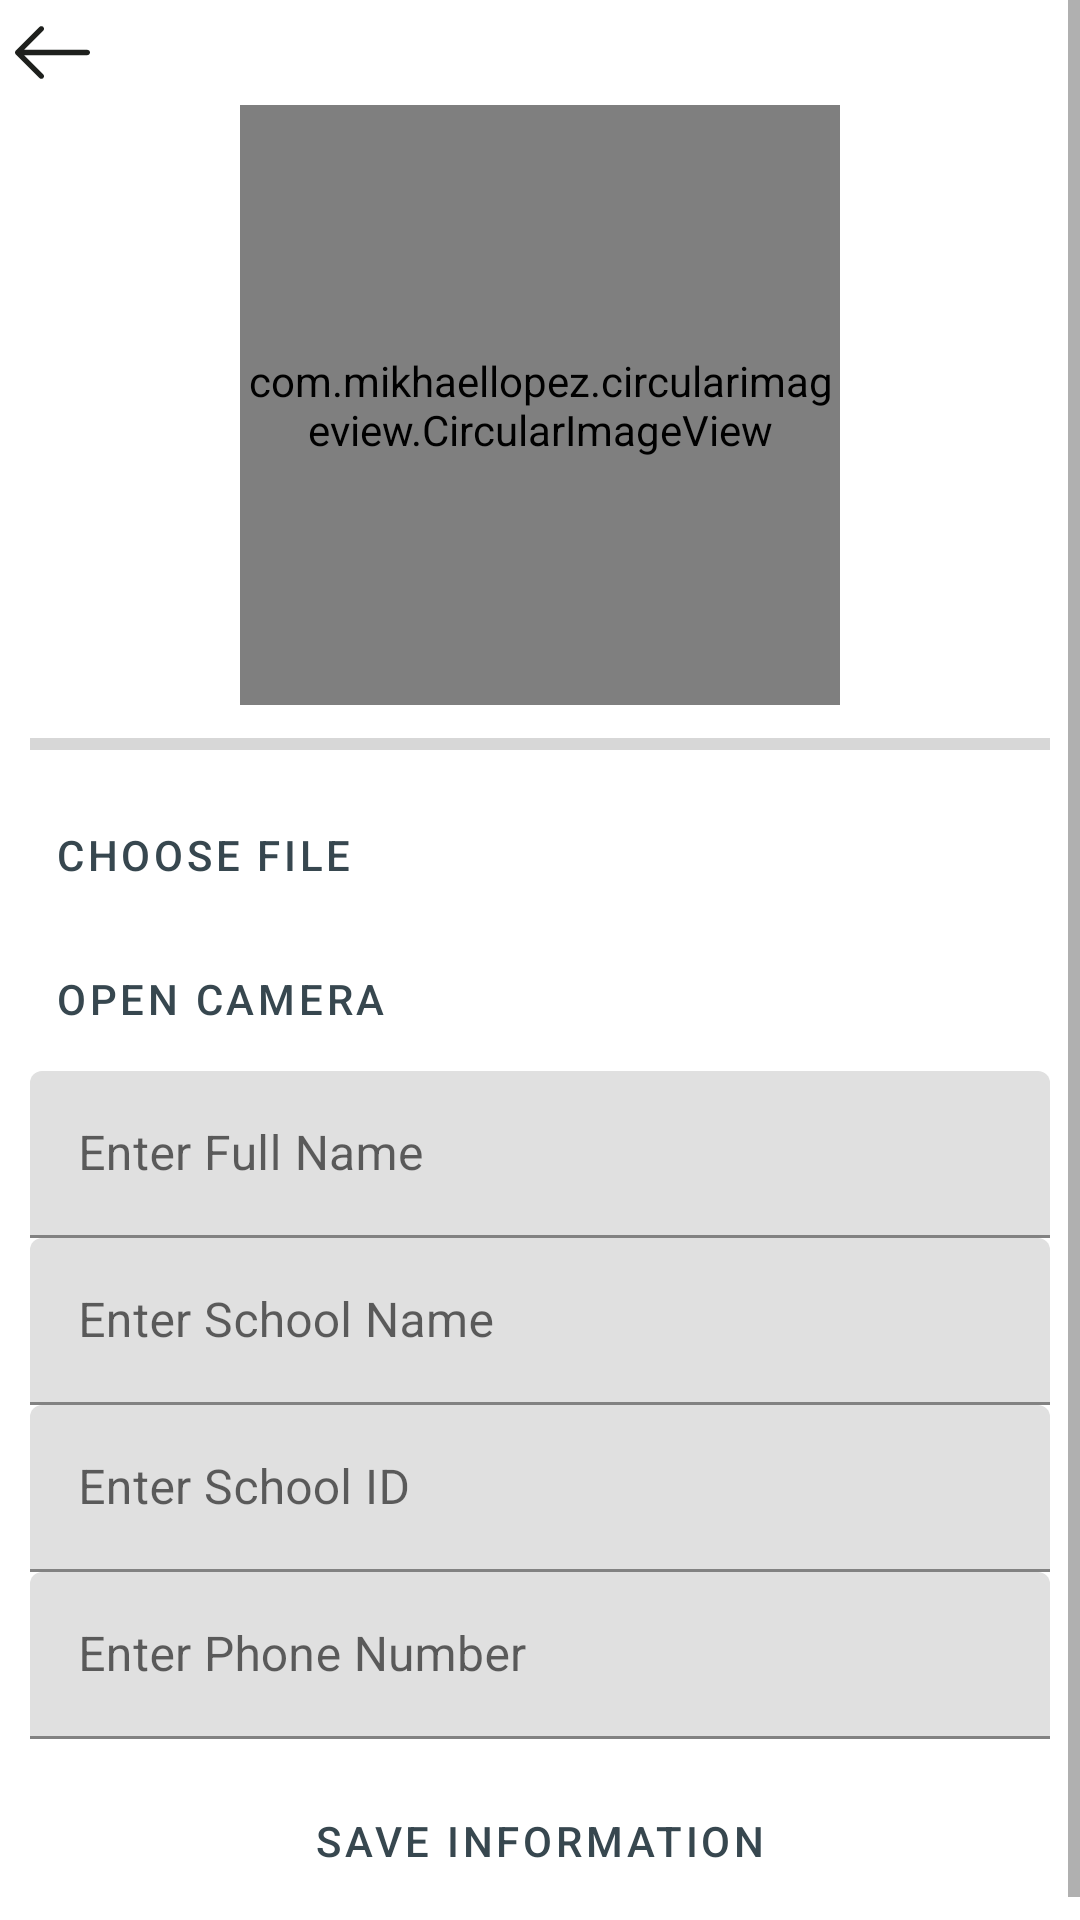

Locate icon controls on the screen. Image size 1080 × 1920, boxes as (x1, y1, x2, y2).
back: (15, 26, 90, 79)
